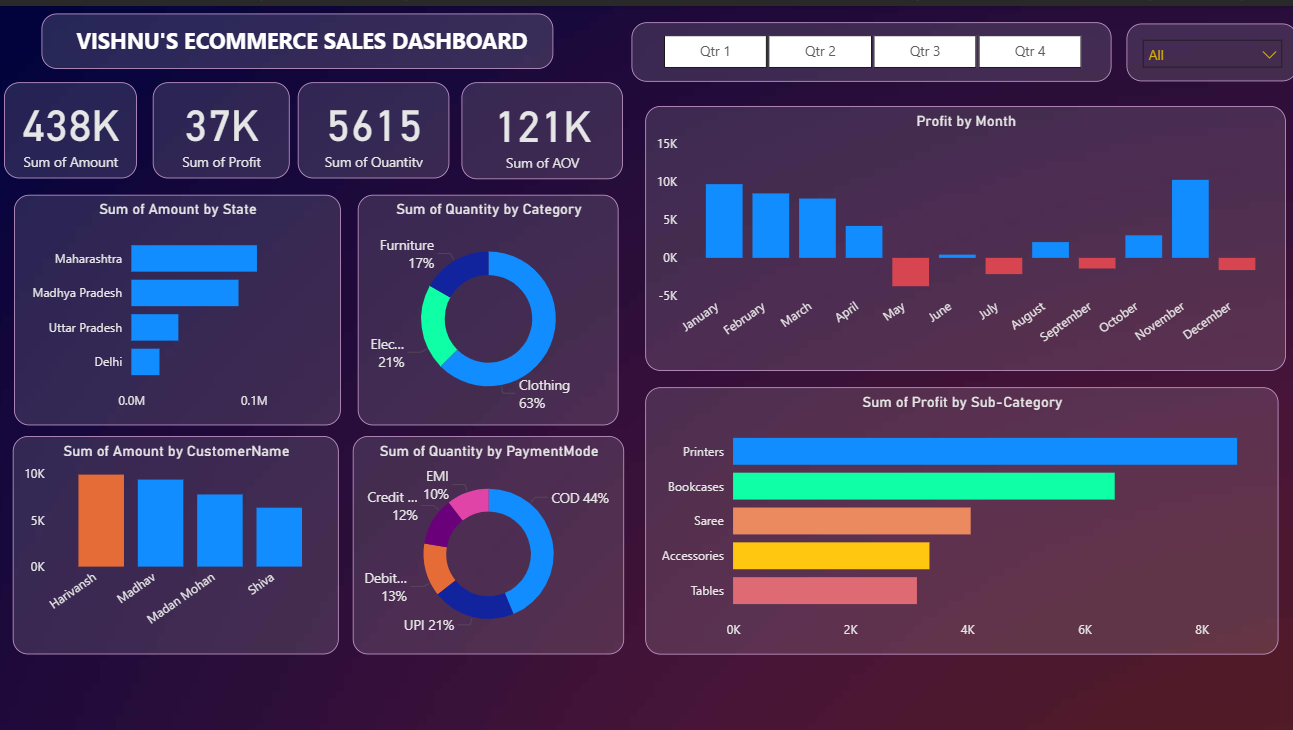

The page's visual inventory and layout, read from the dashboard file:
{"tool":"powerbi","page":{"name":"Page 1","canvas":[1280,720],"ordinal":0},"visuals":[{"type":"textbox","box":[46.9,7.1,502,54.1],"z":0},{"type":"columnChart","title":"Profit by Month","fields":{"Category":["Orders.Order Date.Variation.Date Hierarchy.Month"],"Y":["Sum(Details.Profit)"]},"box":[639.8,98,628.6,260.2],"z":1000},{"type":"barChart","fields":{"Category":["Details.Sub-Category"],"Y":["Sum(Details.Profit)"]},"box":[639.8,374.5,621.4,262.2],"z":2000},{"type":"donutChart","fields":{"Category":["Details.Category"],"Y":["Sum(Details.Quantity)"]},"box":[357.1,184.7,256.1,226.5],"z":3000},{"type":"donutChart","fields":{"Category":["Details.PaymentMode"],"Y":["Sum(Details.Quantity)"]},"box":[352,422.4,266.3,214.3],"z":4000},{"type":"card","fields":{"Values":["Sum(Details.Amount)"]},"box":[10,74.3,130.6,94.4],"z":5000},{"type":"card","fields":{"Values":["Sum(Details.Quantity)"]},"box":[298.4,74.3,148.7,94.4],"z":6000},{"type":"card","fields":{"Values":["Sum(Details.Profit)"]},"box":[155.7,74.3,134.6,94.4],"z":7000},{"type":"card","fields":{"Values":["Sum(Details.AOV)"]},"box":[459.2,74.3,158.7,95.4],"z":8000},{"type":"barChart","fields":{"Category":["Orders.State"],"Y":["Sum(Details.Amount)"]},"box":[19.4,184.7,320.4,226.5],"z":9000},{"type":"columnChart","fields":{"Category":["Orders.CustomerName"],"Y":["Sum(Details.Amount)"]},"box":[19,422,320,214],"z":10000},{"type":"slicer","fields":{"Values":["Orders.Order Date.Variation.Date Hierarchy.Quarter"]},"box":[625.5,16.3,471.4,58.2],"z":11000},{"type":"slicer","fields":{"Values":["Orders.State"]},"box":[1111.2,17.3,168.4,57.1],"z":12000}]}

Visuals, with their boxes in screenshot pixels (x1, y1, x2, y2), scaled from the page's 1280x720 canvas onto the 1293x730 screenshot:
textbox: pyautogui.locateOnScreen(47, 7, 554, 62)
"Profit by Month" columnChart: pyautogui.locateOnScreen(646, 99, 1281, 363)
barChart - Details.Sub-Category x Sum(Details.Profit): pyautogui.locateOnScreen(646, 380, 1274, 646)
donutChart - Details.Category x Sum(Details.Quantity): pyautogui.locateOnScreen(361, 187, 619, 417)
donutChart - Details.PaymentMode x Sum(Details.Quantity): pyautogui.locateOnScreen(356, 428, 625, 646)
card - Sum(Details.Amount): pyautogui.locateOnScreen(10, 75, 142, 171)
card - Sum(Details.Quantity): pyautogui.locateOnScreen(301, 75, 452, 171)
card - Sum(Details.Profit): pyautogui.locateOnScreen(157, 75, 293, 171)
card - Sum(Details.AOV): pyautogui.locateOnScreen(464, 75, 624, 172)
barChart - Orders.State x Sum(Details.Amount): pyautogui.locateOnScreen(20, 187, 343, 417)
columnChart - Orders.CustomerName x Sum(Details.Amount): pyautogui.locateOnScreen(19, 428, 342, 645)
slicer - Orders.Order Date.Variation.Date Hierarchy.Quarter: pyautogui.locateOnScreen(632, 17, 1108, 76)
slicer - Orders.State: pyautogui.locateOnScreen(1122, 18, 1292, 75)
